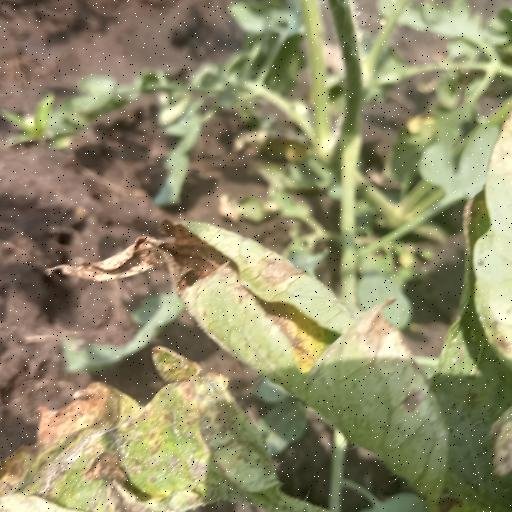Tomato_Brown_Spots: (40, 215, 512, 503)
